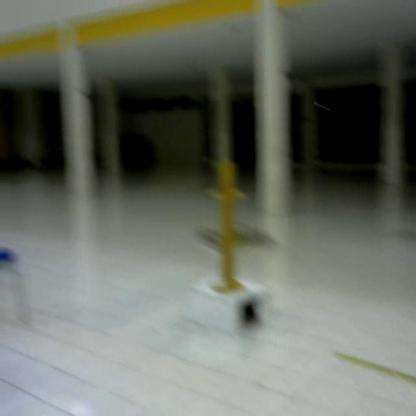pole: (208, 161, 247, 297)
